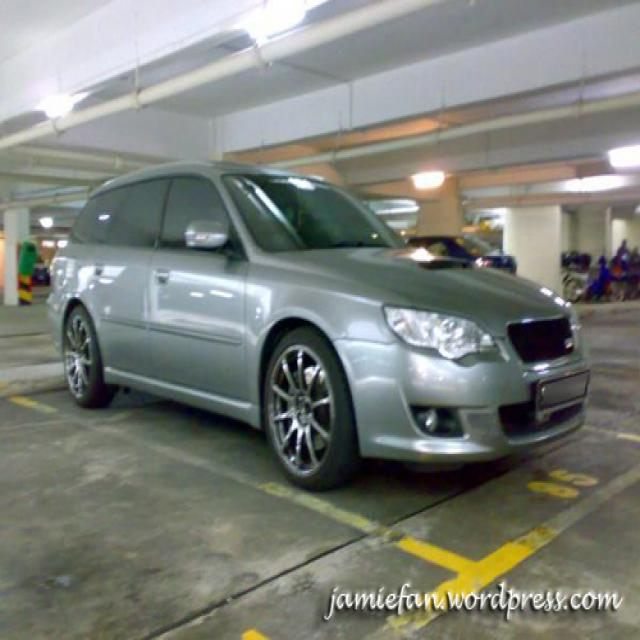Car: (37, 159, 588, 484)
